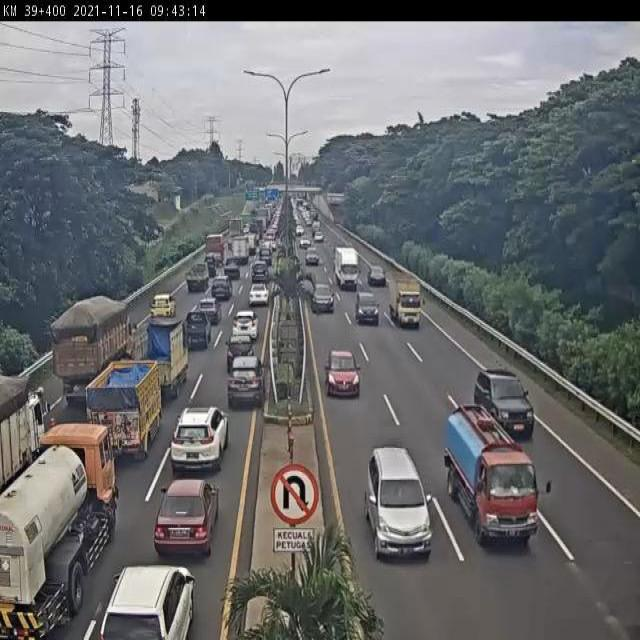car: (97, 556, 201, 640), (362, 447, 434, 561), (152, 476, 219, 560), (476, 369, 536, 442), (166, 405, 228, 472), (226, 355, 267, 409), (324, 348, 361, 399), (180, 311, 214, 353), (224, 334, 255, 374), (354, 289, 381, 328), (148, 294, 179, 326), (230, 308, 260, 340), (309, 280, 335, 316), (184, 263, 210, 293), (206, 276, 232, 304), (247, 280, 271, 308), (198, 296, 222, 324), (223, 254, 243, 282), (249, 258, 271, 282), (366, 264, 385, 289)
small truck: (443, 402, 538, 546), (384, 271, 425, 328), (333, 247, 360, 292)
truck-l-: (0, 417, 124, 640), (51, 294, 135, 410), (0, 371, 51, 492)
truck-m-: (88, 356, 164, 456), (126, 316, 191, 400)
